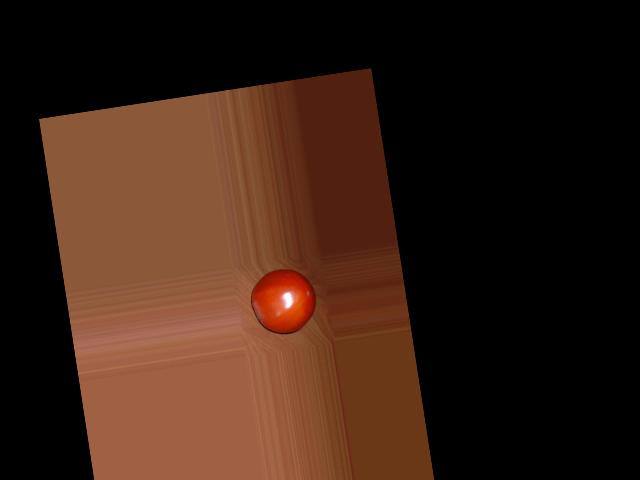tomato: (247, 263, 320, 338)
